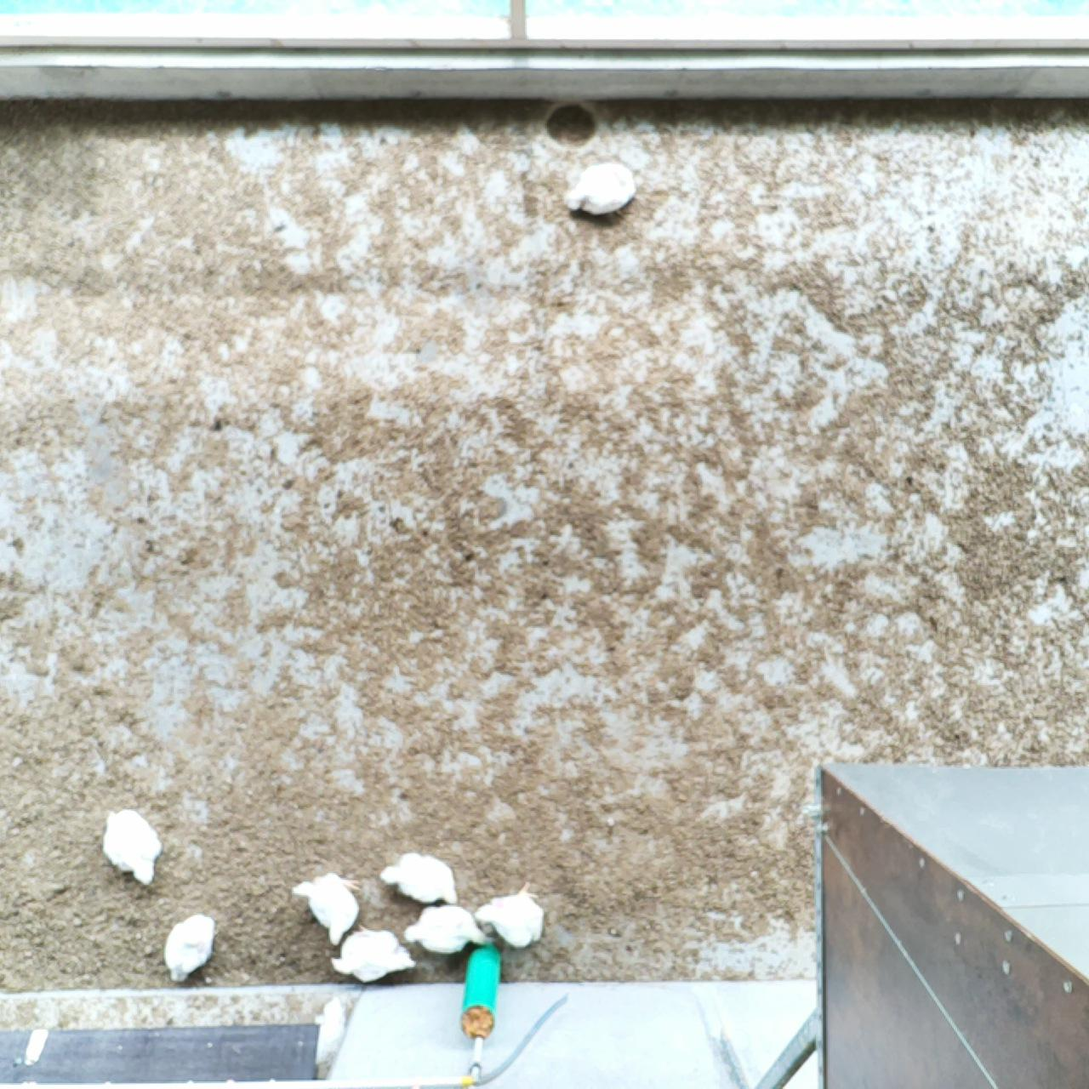chicken: (291, 864, 368, 949), (95, 805, 171, 889), (562, 153, 645, 227), (331, 921, 419, 988), (396, 905, 493, 962), (472, 879, 548, 951), (376, 851, 464, 913), (160, 907, 221, 989), (309, 990, 350, 1068)
